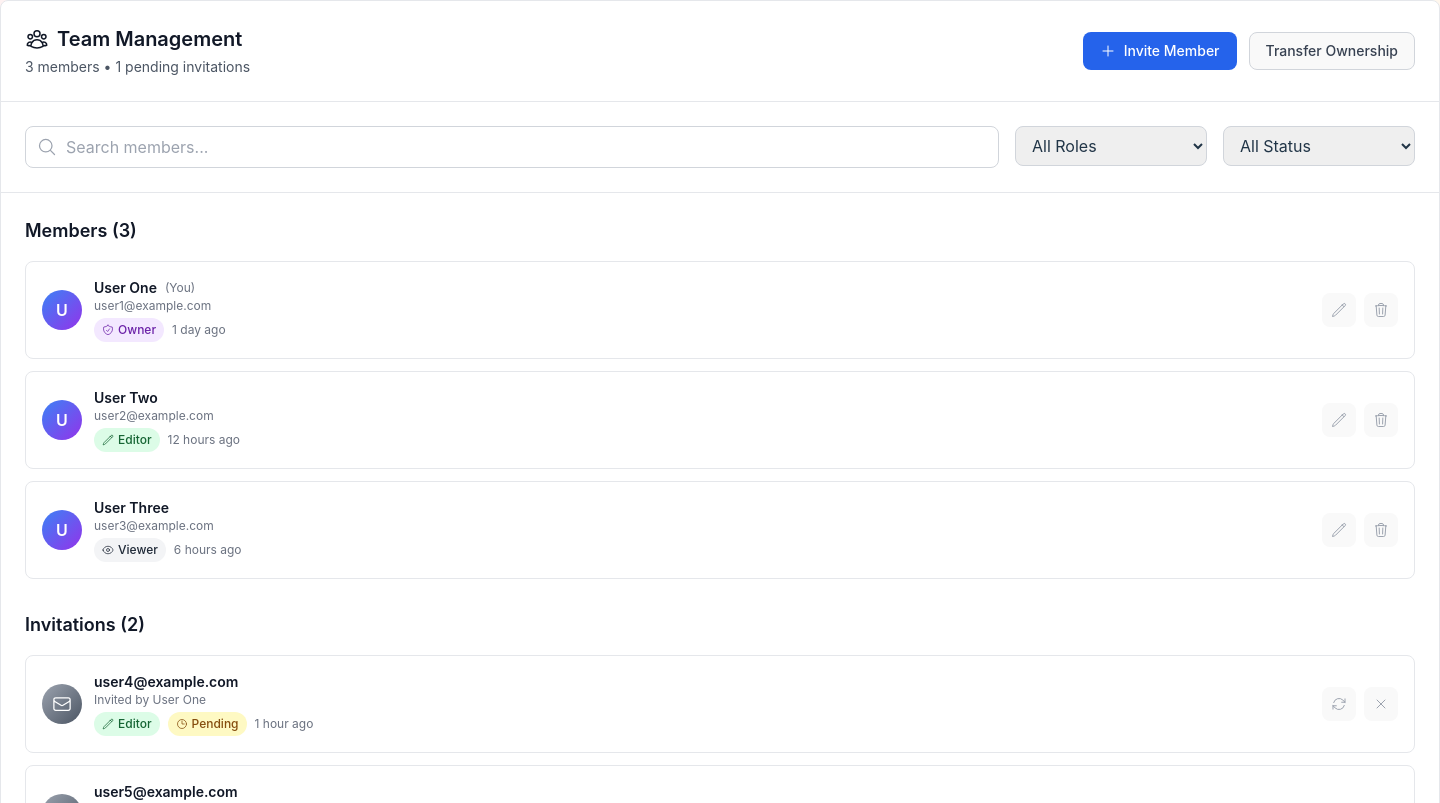
Scenario: TeamManagement › Search and Filtering › should filter members by role
This screenshot has width=1440, height=803.
Select "Editor" in the 1st dropdown showing "All Roles" at {"x": 1111, "y": 146}, box [1015,126,1207,166]
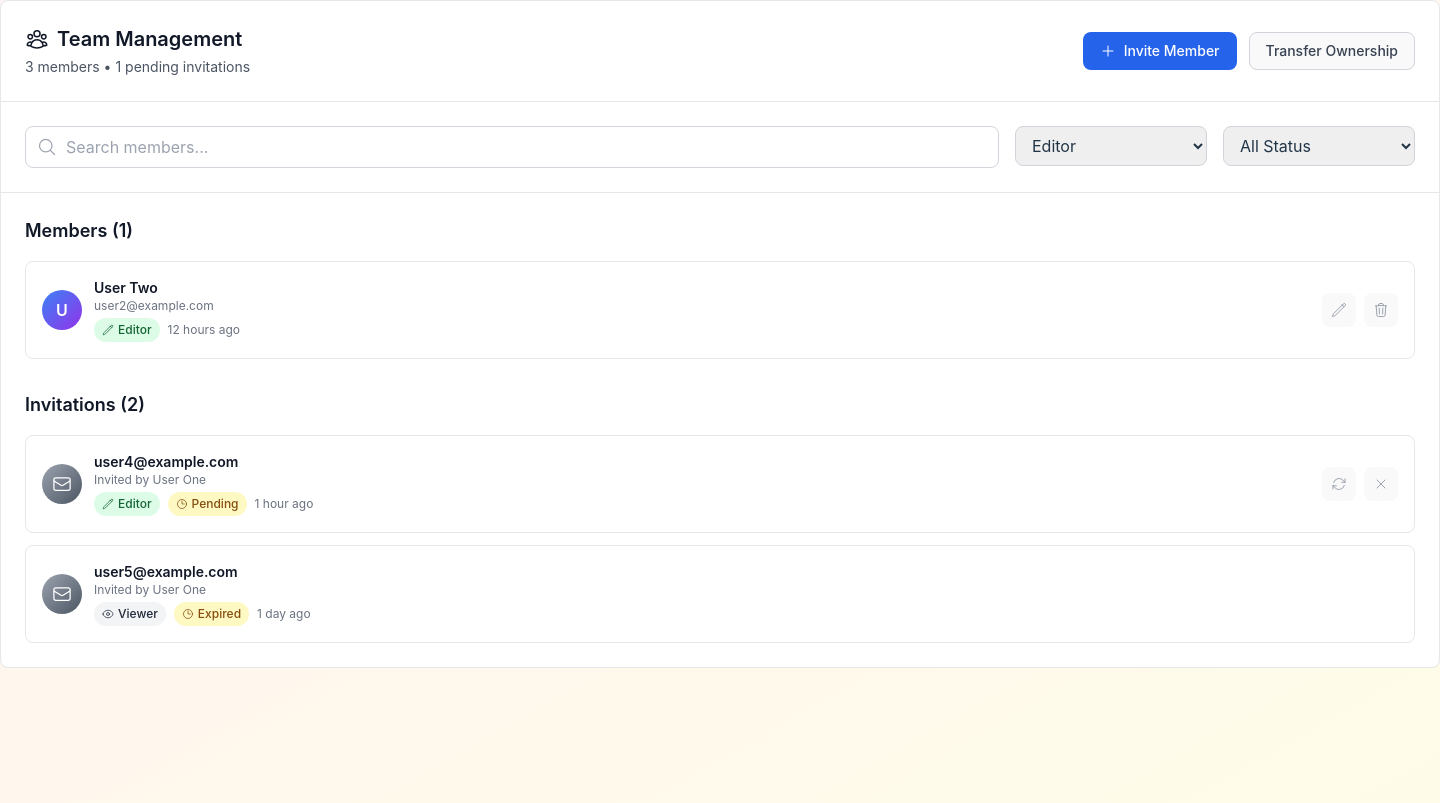
Expected: the heading "User Two" is shown, [94,278,158,298]
Expected: the heading "User Three" is gone
